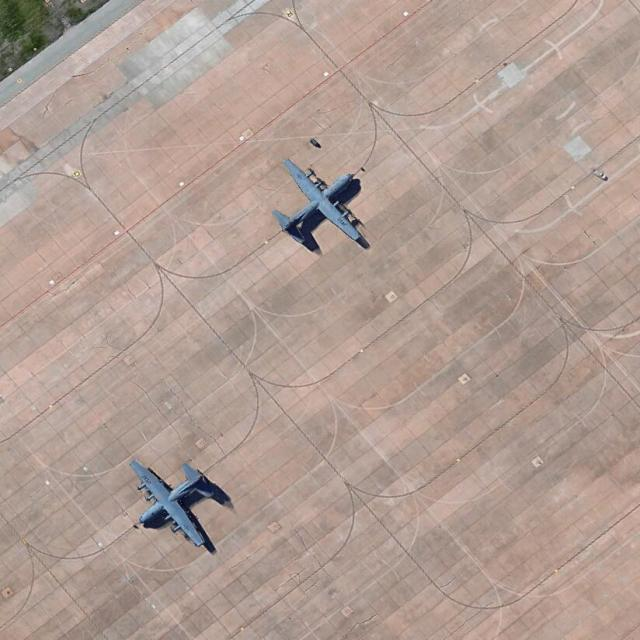fighter jet: (267, 154, 373, 260), (123, 449, 221, 557)
